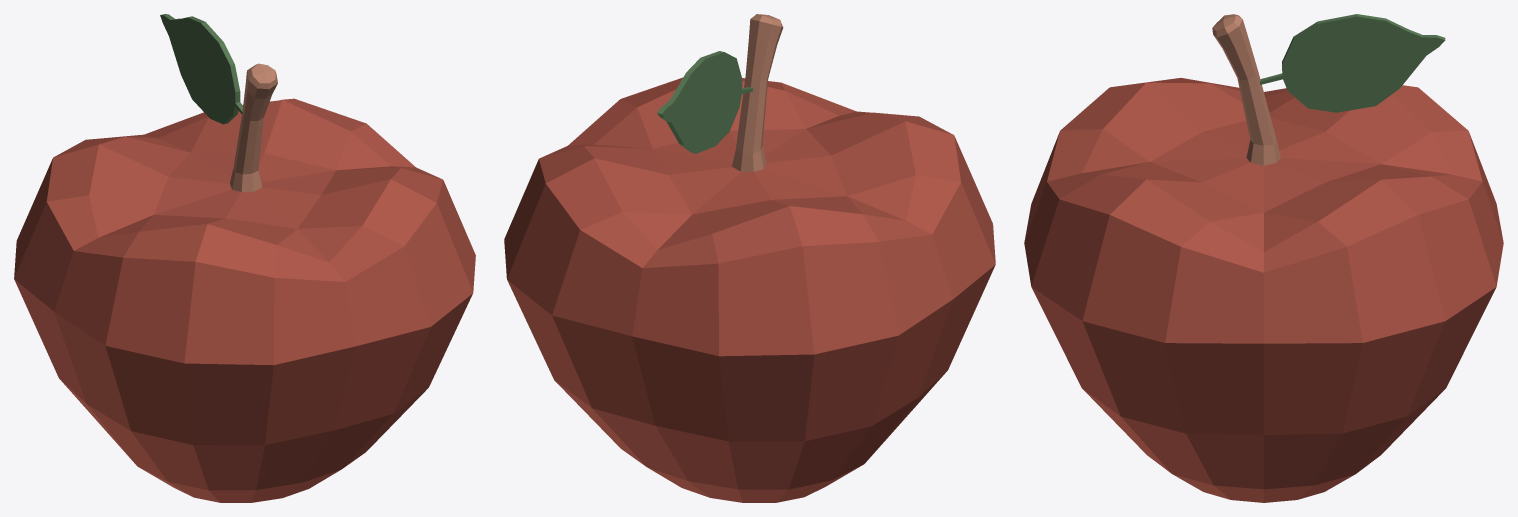
Rendered from apple.glb.
3 renders of one model, left to right at view 1: azimuth 30°, elevation 25°; view 2: azimuth 150°, elevation 25°; view 3: azimuth 270°, elevation 25°, orthographic. The views are drawn at different scales.
Visible parts, largest first — view 1: Apple_Crop; view 2: Apple_Crop; view 3: Apple_Crop.
Boxes of the visible parts, <box> form: Apple_Crop: <box>14,14,475,502</box>; Apple_Crop: <box>504,14,995,502</box>; Apple_Crop: <box>1024,14,1503,502</box>.
Size of the model in its own units: 0.1575 by 0.168 by 0.1583.
